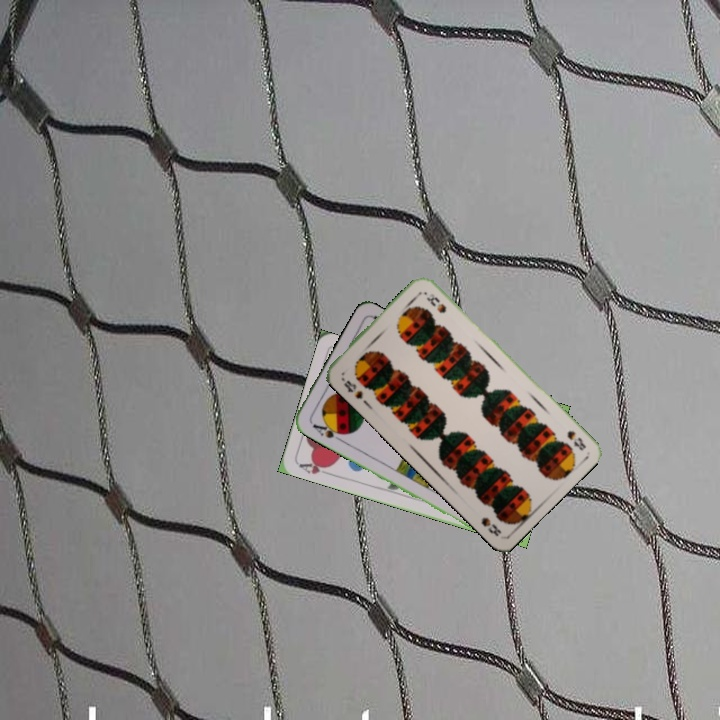HA: (295, 456, 335, 478)
S8: (337, 373, 365, 401), (563, 427, 589, 453)
SA: (308, 418, 347, 444)
